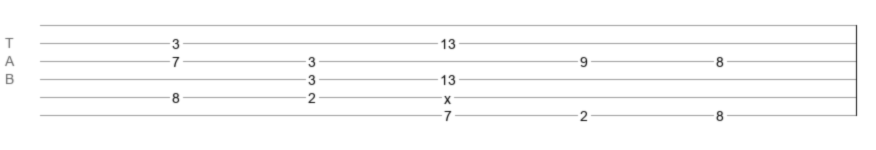13: (440, 36, 456, 46), (440, 72, 456, 82)
2: (308, 90, 316, 100), (580, 108, 588, 118)
3: (172, 36, 180, 46), (308, 54, 316, 64), (308, 72, 316, 82)
7: (172, 54, 180, 64), (444, 108, 452, 118)
8: (172, 90, 180, 100), (716, 54, 724, 64), (716, 108, 724, 118)
9: (580, 54, 588, 64)
x: (444, 91, 451, 99)
